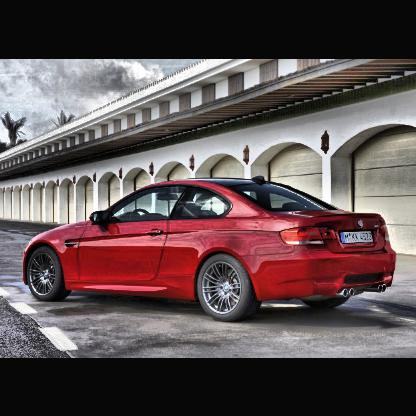BMW M3 Coupe 2012: (23, 177, 400, 323)
